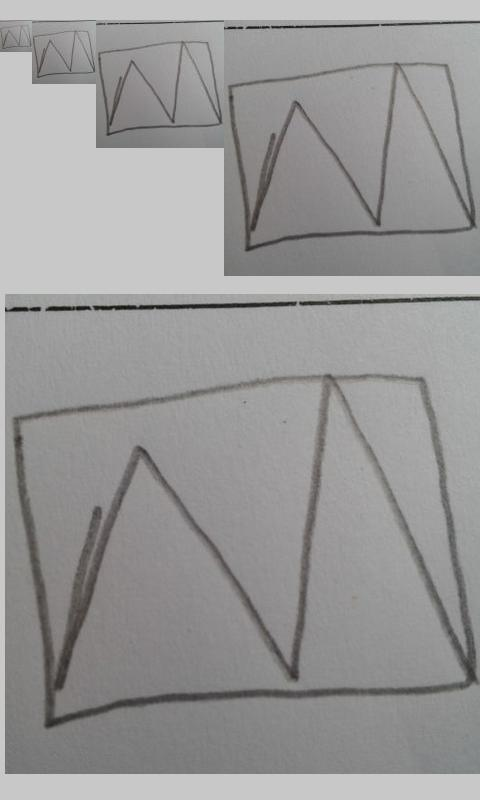image_view: (9, 372, 480, 731), (228, 58, 480, 252), (98, 39, 222, 136), (32, 30, 96, 78), (1, 24, 32, 50)
